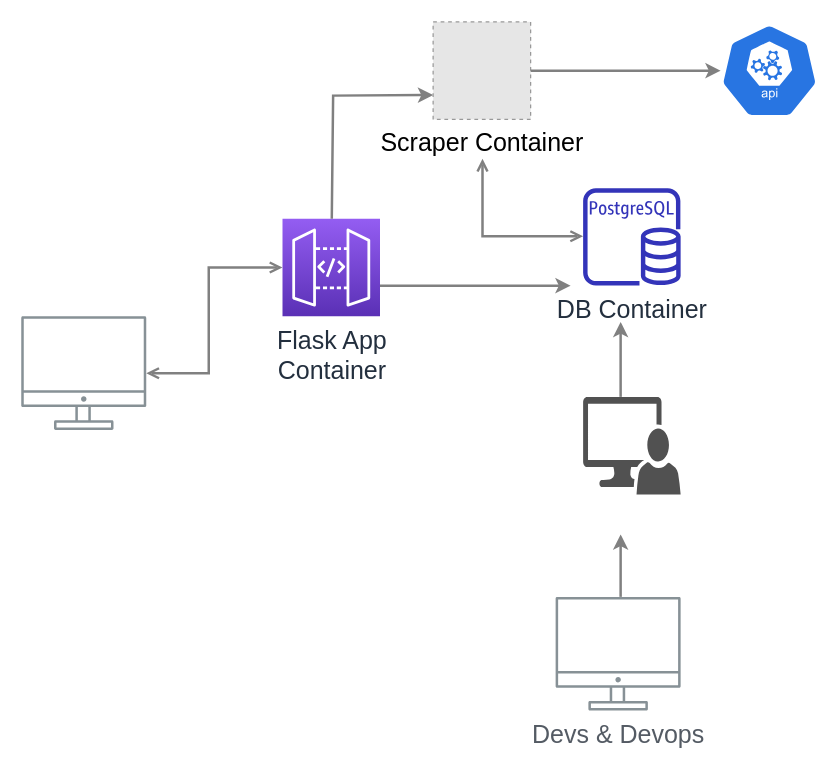
Image size: 840x771. Some labels were removed from this diagram. Grey dashed boxes stand in for pictures. Each missing label, with the centre of its shape:
"Cliente" belongs at [83,372].
"PgAdmin Container" belongs at [631,445].
